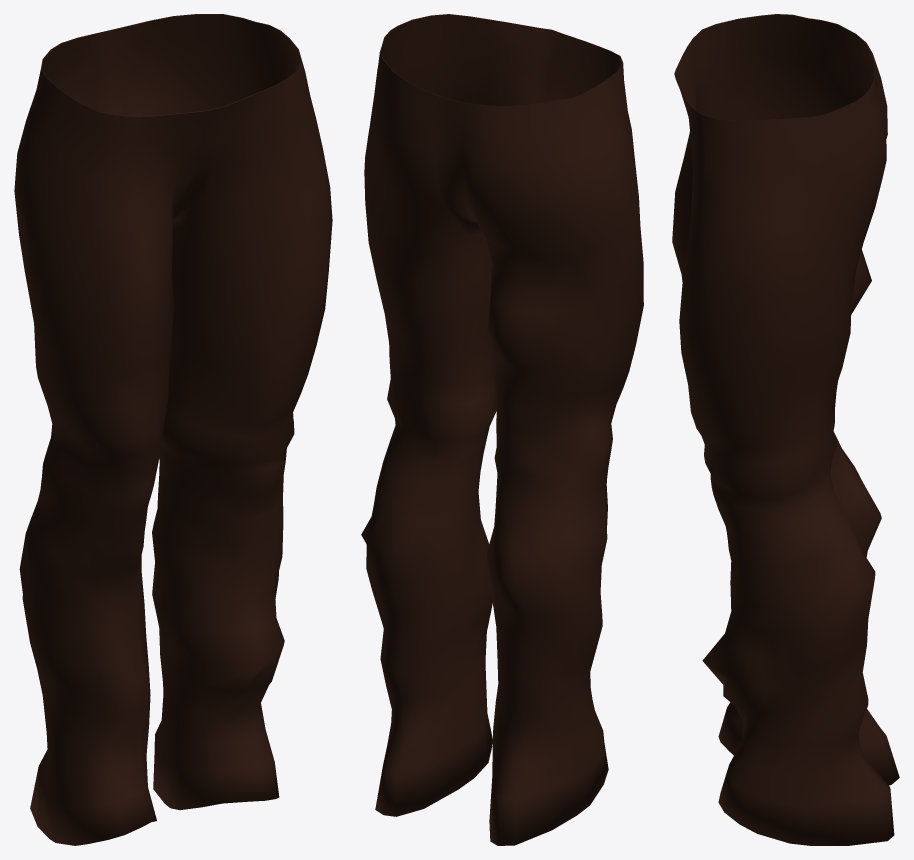
The model's file is Harry_Pant_Boy.fbx.
The picture shows the model from 3 angles, left to right: view 1: azimuth 30°, elevation 25°; view 2: azimuth 150°, elevation 25°; view 3: azimuth 270°, elevation 25°; orthographic projection. The views are drawn at different scales.
Parts seen in each view (by area): view 1: Harry_pant; view 2: Harry_pant; view 3: Harry_pant.
Part boxes in pixels (<box>): Harry_pant: <box>14,14,332,845</box>; Harry_pant: <box>361,14,643,845</box>; Harry_pant: <box>672,14,899,845</box>.
Size of the model in its own units: 14.67 by 38.81 by 10.78.
